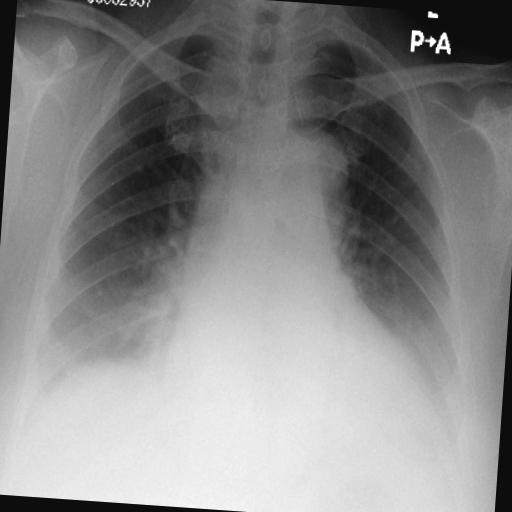kardiomegali: (154, 226, 453, 457)
